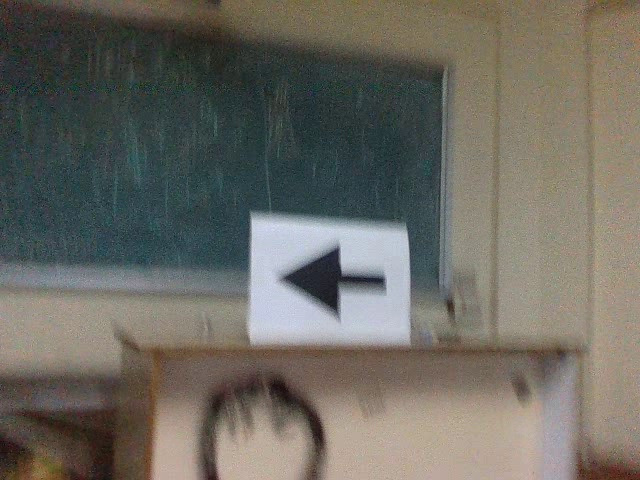Left: (270, 238, 391, 327)
